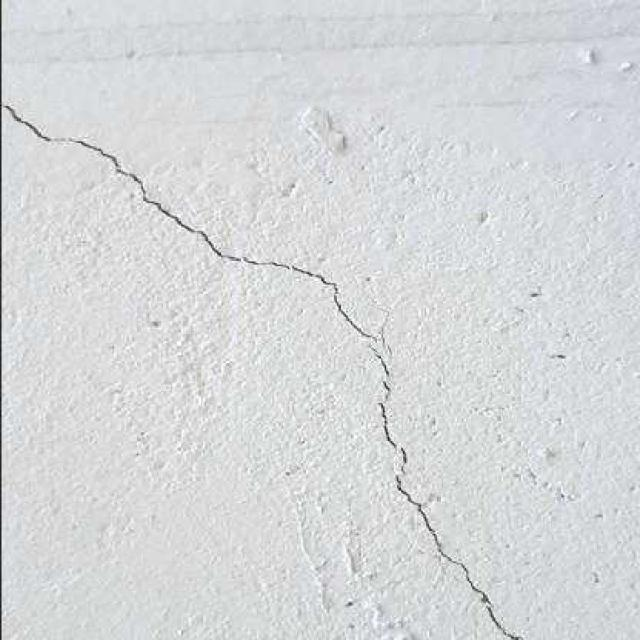D00: (0, 105, 377, 342), (394, 474, 517, 640), (369, 346, 389, 400), (376, 402, 395, 447), (398, 446, 405, 475)
